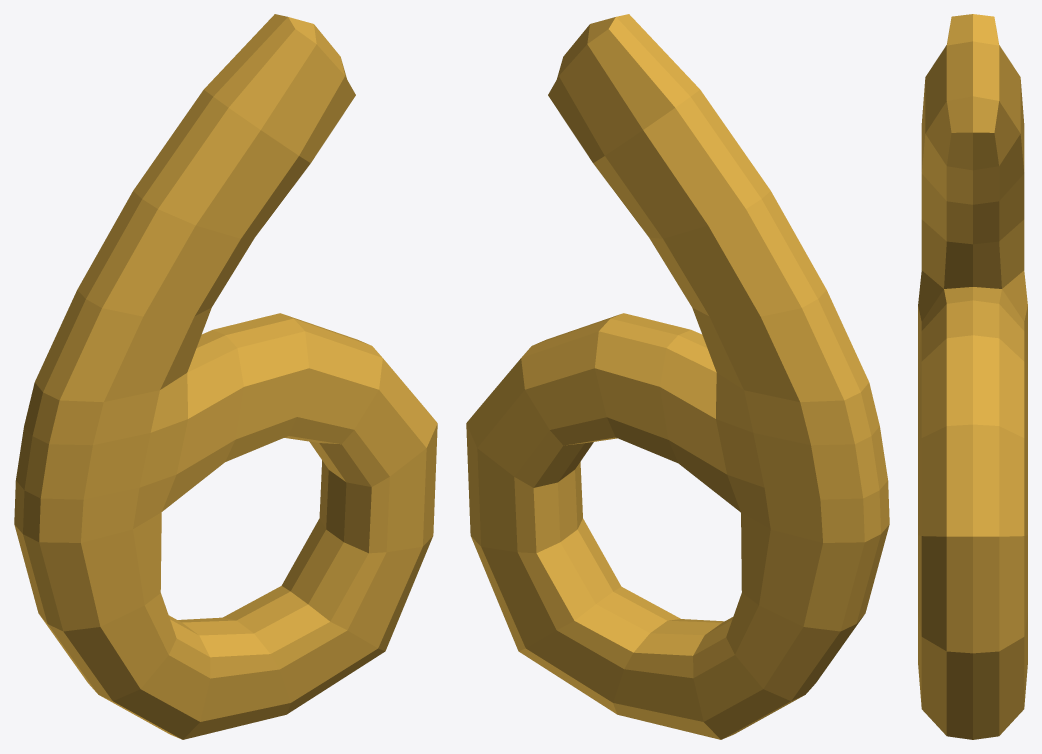
The picture shows the model from 3 angles, left to right: view 1: azimuth 30°, elevation 25°; view 2: azimuth 150°, elevation 25°; view 3: azimuth 270°, elevation 25°; orthographic projection. The views are drawn at different scales.
Visible parts, largest first — view 1: 6; view 2: 6; view 3: 6.
Part boxes in pixels (left/top/right/bottom): 6: left=14, top=14, right=437, bottom=739; 6: left=466, top=14, right=889, bottom=739; 6: left=918, top=14, right=1027, bottom=739.
Bounding box in the file's own units: 42.66 × 69.27 × 9.53.
